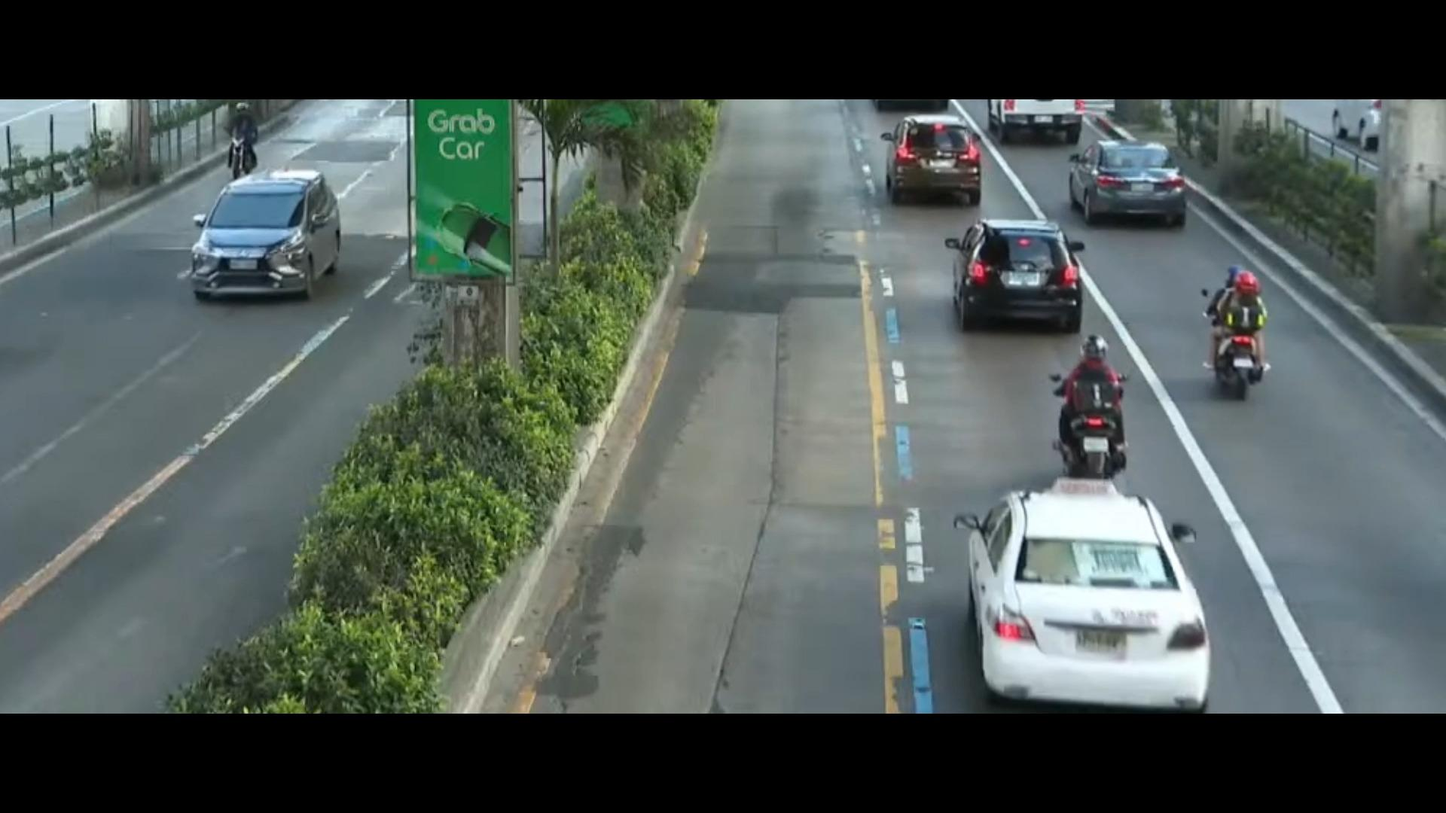Motorcycle: (1002, 319, 1170, 493), (1169, 247, 1313, 424), (217, 96, 266, 195)
SUV: (173, 160, 358, 322), (879, 102, 1002, 211)
Sedan: (925, 458, 1239, 715), (937, 208, 1103, 355), (1057, 130, 1192, 236)
